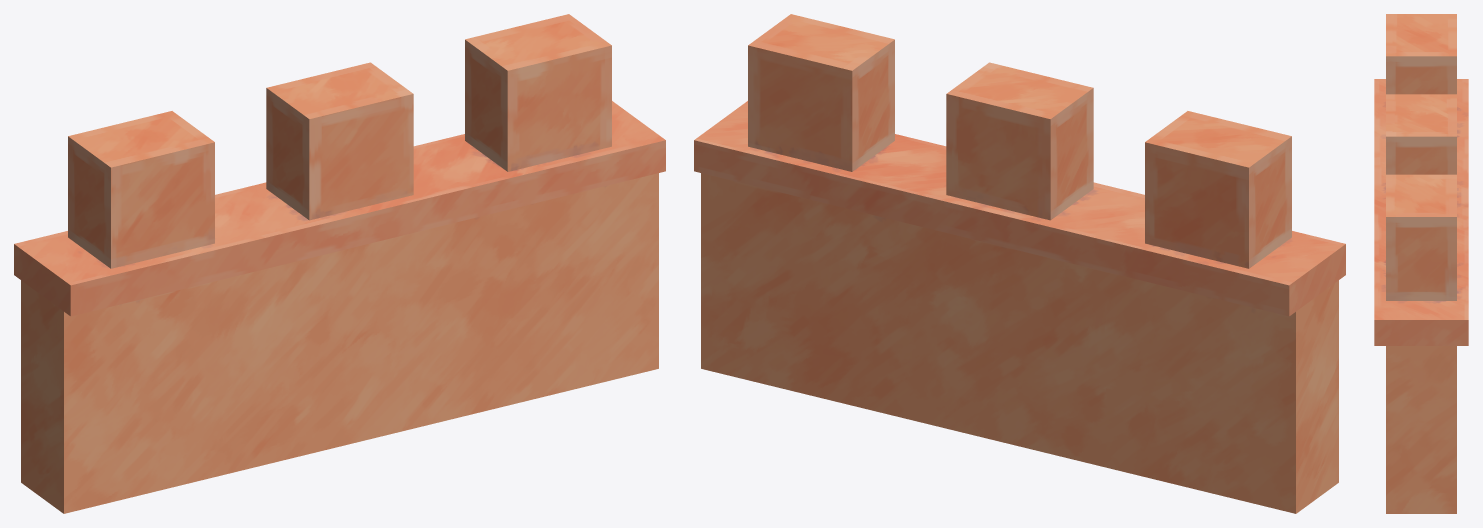
Rendered from parapet_crenel_low.fbx.
The picture shows the model from 3 angles, left to right: view 1: azimuth 30°, elevation 25°; view 2: azimuth 150°, elevation 25°; view 3: azimuth 270°, elevation 25°; orthographic projection. The views are drawn at different scales.
Visible parts, largest first — view 1: parapet_crenel; view 2: parapet_crenel; view 3: parapet_crenel.
Boxes of the visible parts, box(x1,y1,x2,y2) form: parapet_crenel: box(14, 14, 665, 513); parapet_crenel: box(694, 14, 1345, 513); parapet_crenel: box(1374, 14, 1468, 513).
Size of the model in its own units: 8 by 4.3 by 1.32.
Materials: 1 (1 with a texture image).
